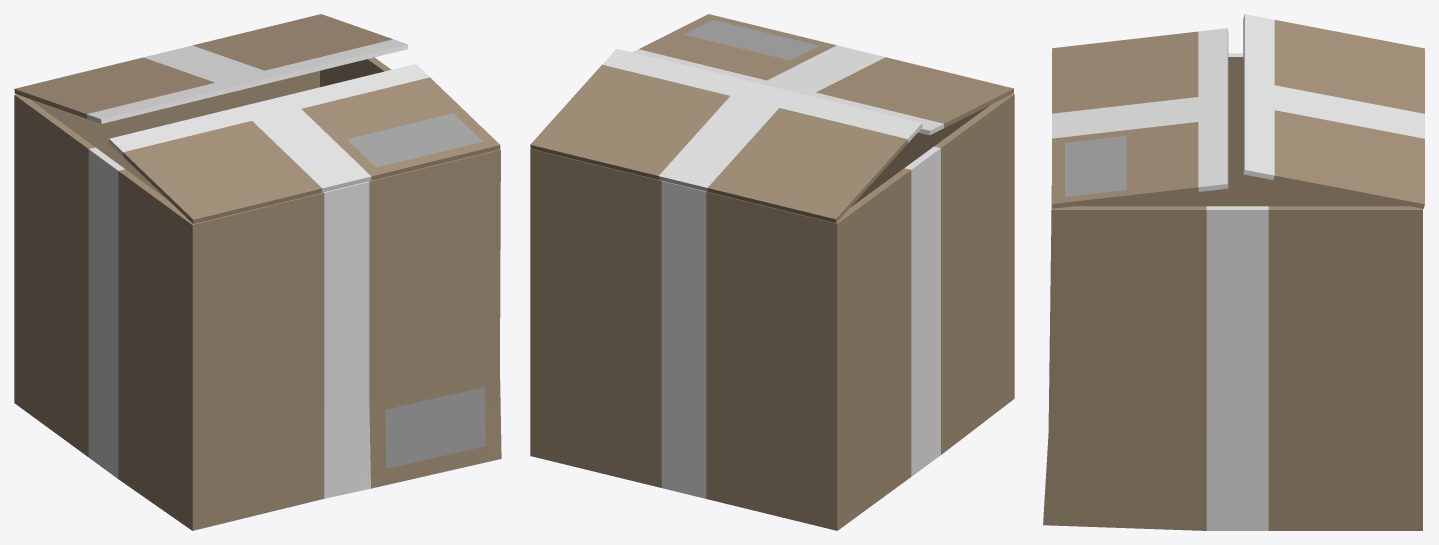
Rendered from Caja abierta 1.fbx.
3 views of the same model, side by side, from view 1: azimuth 30°, elevation 25°; view 2: azimuth 150°, elevation 25°; view 3: azimuth 270°, elevation 25° (orthographic). The views are drawn at different scales.
Visible parts, largest first — view 1: Box, Tapas; view 2: Box, Tapas; view 3: Box, Tapas.
Boxes of the visible parts, bbox=[...] form: Box: bbox=[14, 57, 501, 530]; Tapas: bbox=[14, 14, 500, 223]; Box: bbox=[530, 94, 1014, 530]; Tapas: bbox=[530, 14, 1013, 222]; Box: bbox=[1043, 53, 1422, 530]; Tapas: bbox=[1052, 14, 1424, 208].
Bounding box in the file's own units: 1.01 × 1.08 × 1.04.
